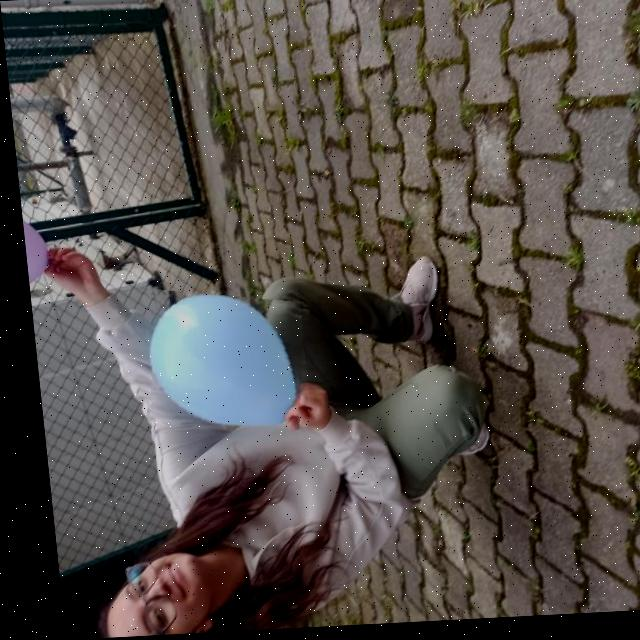balloon: (135, 289, 303, 432)
